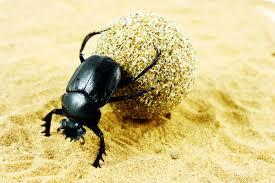insect: (38, 26, 166, 170)
